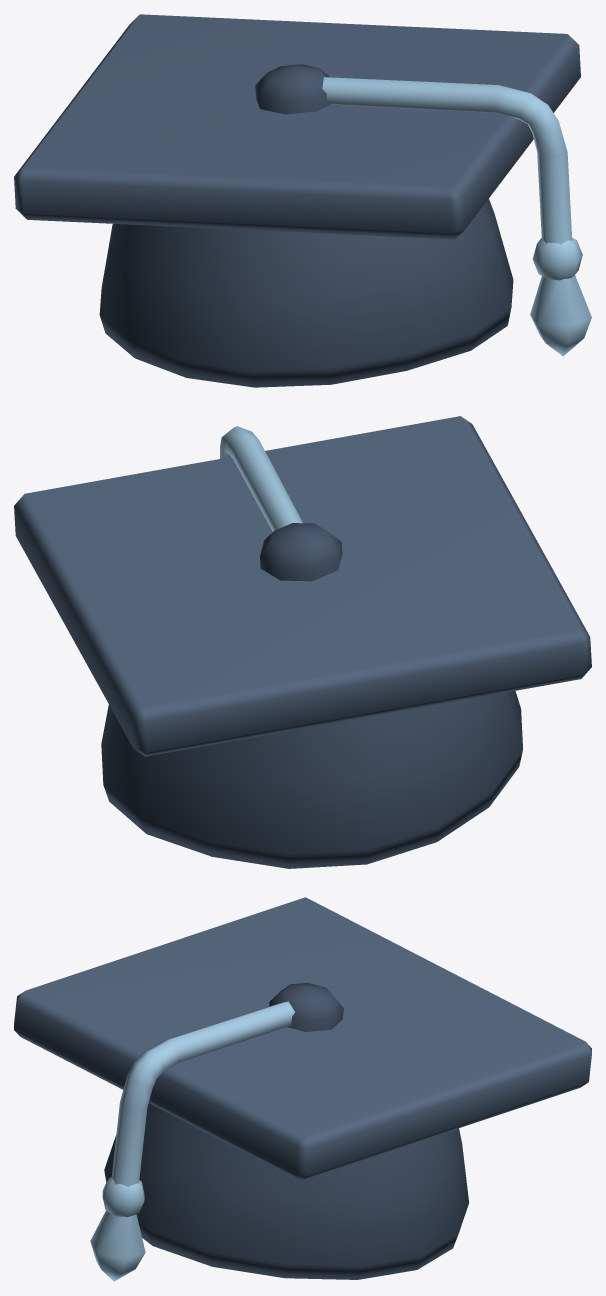
Rendered from Headgear_32.fbx.
The picture shows the model from 3 angles, top to bottom: view 1: azimuth 30°, elevation 25°; view 2: azimuth 150°, elevation 25°; view 3: azimuth 270°, elevation 25°; orthographic projection. The views are drawn at different scales.
Visible parts, largest first — view 1: Headgear_32; view 2: Headgear_32; view 3: Headgear_32.
Boxes of the visible parts, x1=… form: Headgear_32: x1=14, y1=14, x2=591, y2=387; Headgear_32: x1=14, y1=416, x2=591, y2=868; Headgear_32: x1=14, y1=897, x2=591, y2=1281.
Bounding box in the file's own units: 124 × 55.87 × 124.
